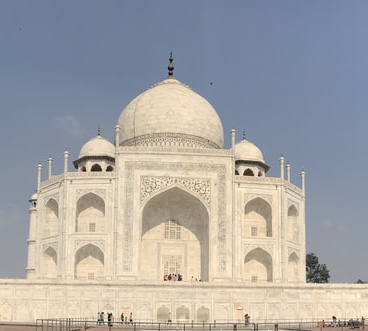Mosque: (18, 46, 319, 292)
